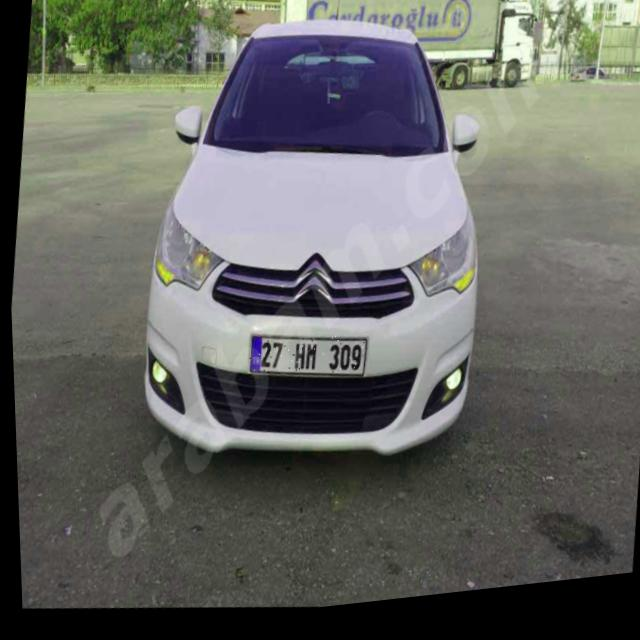license_plate: (244, 332, 365, 390)
